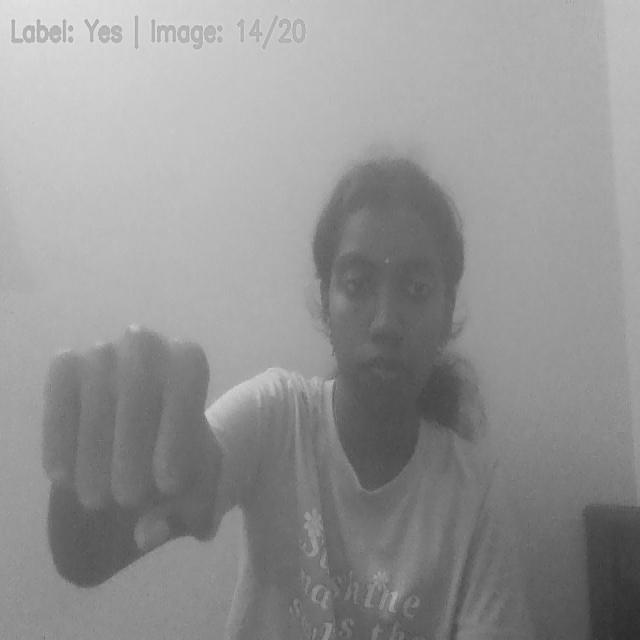Yes: (41, 330, 233, 552)
